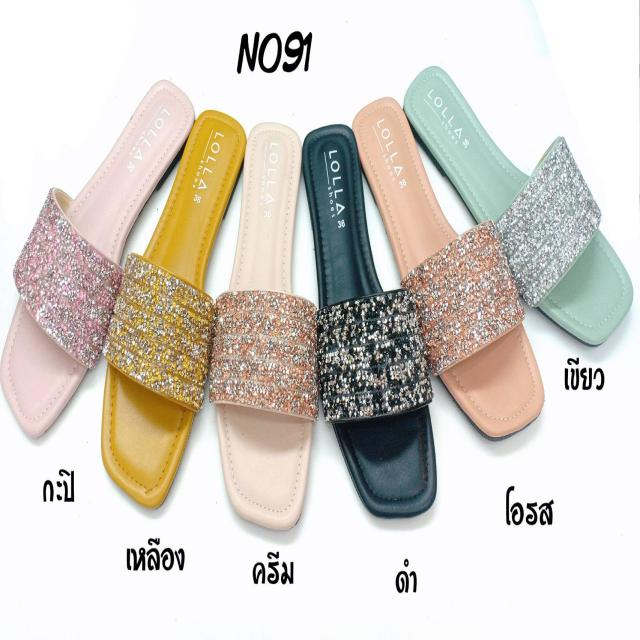black: (301, 124, 435, 526)
green: (402, 67, 634, 355), (214, 125, 314, 528)
kapi: (0, 74, 194, 436)
orot: (350, 98, 544, 446)
yellow: (102, 109, 245, 506)
